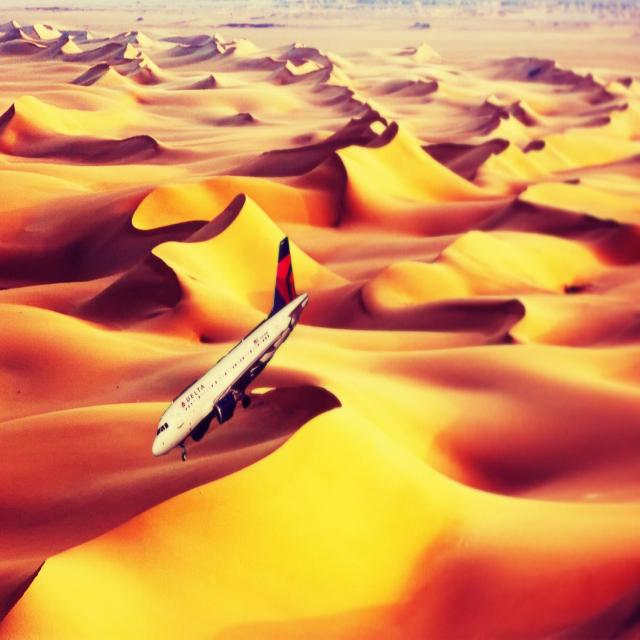airplane: (151, 234, 309, 462)
